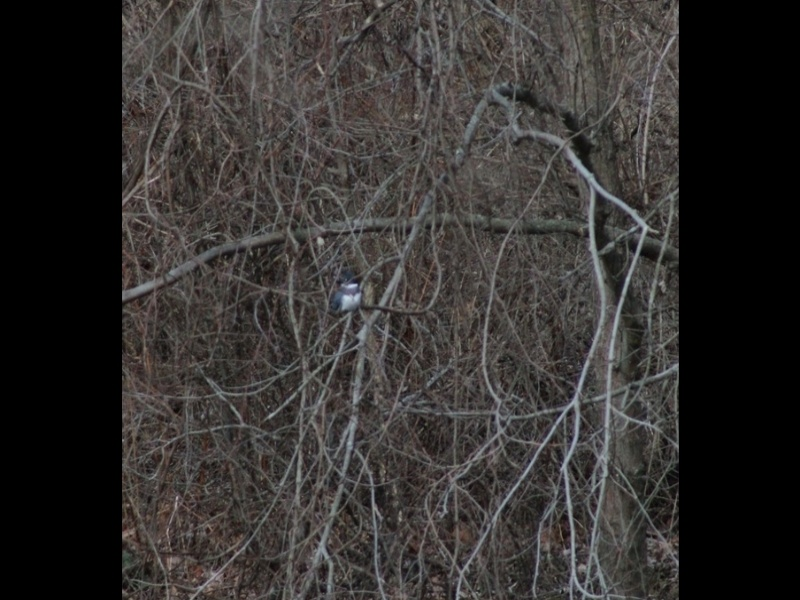kingfisher: (333, 269, 362, 317)
